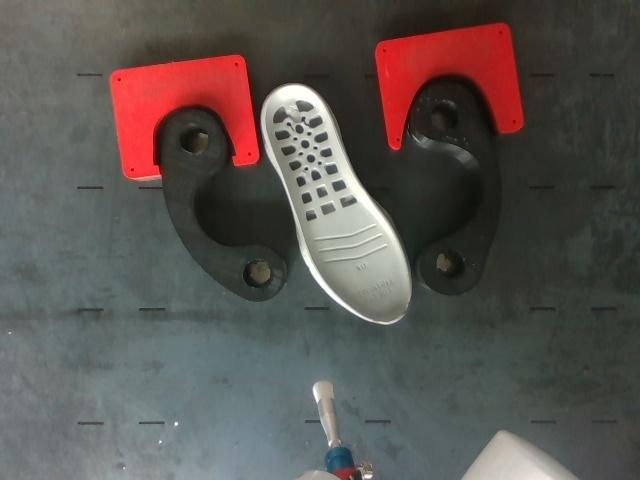shoes: (265, 85, 410, 324)
